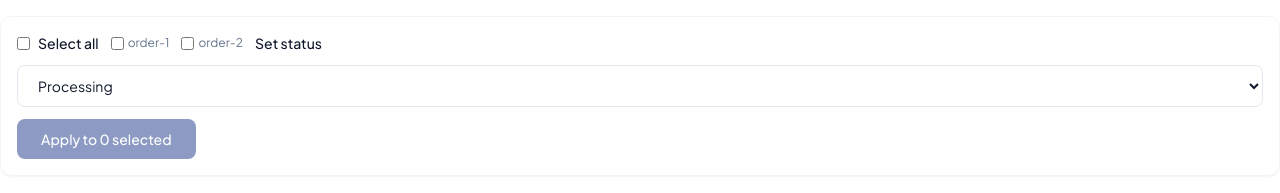
Test case: BulkOrderActions › enables Apply once an order is checked, and shows the selected count
Click the checkbox named "Select order order-1" at (117, 43), box [111,36,124,50]
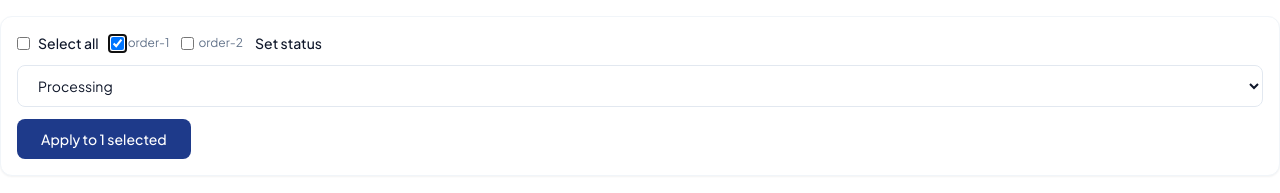
Expected: the button "Apply to 1 selected" is enabled, [17,119,191,159]
